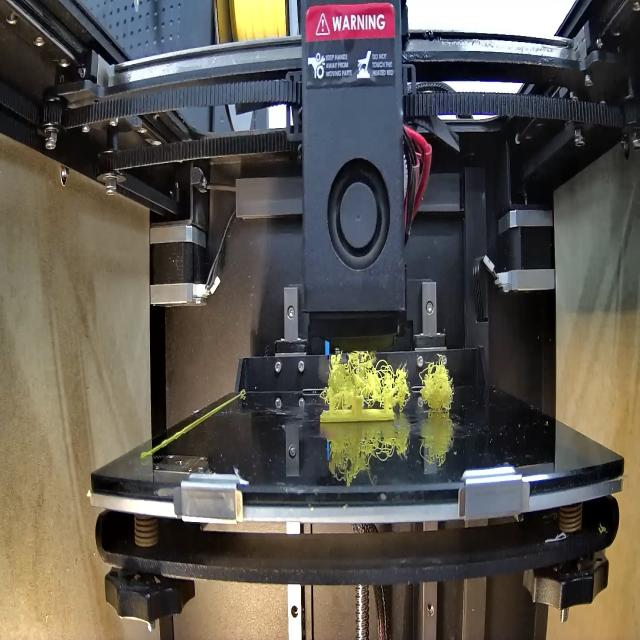spaghetti: (324, 336, 458, 415)
